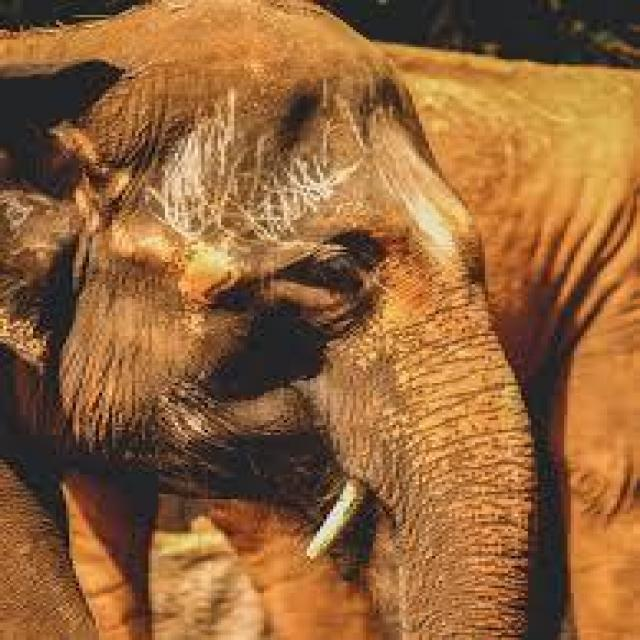Elephant: (0, 0, 531, 638)
